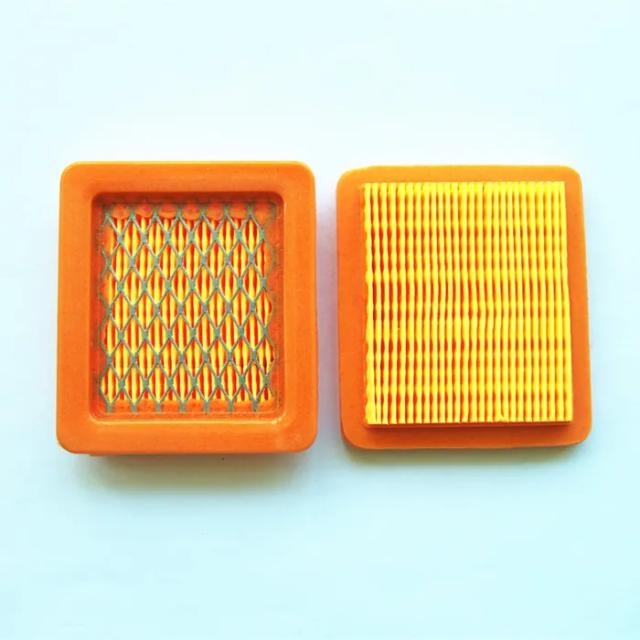air_filter: (52, 154, 322, 460), (335, 159, 596, 457)
